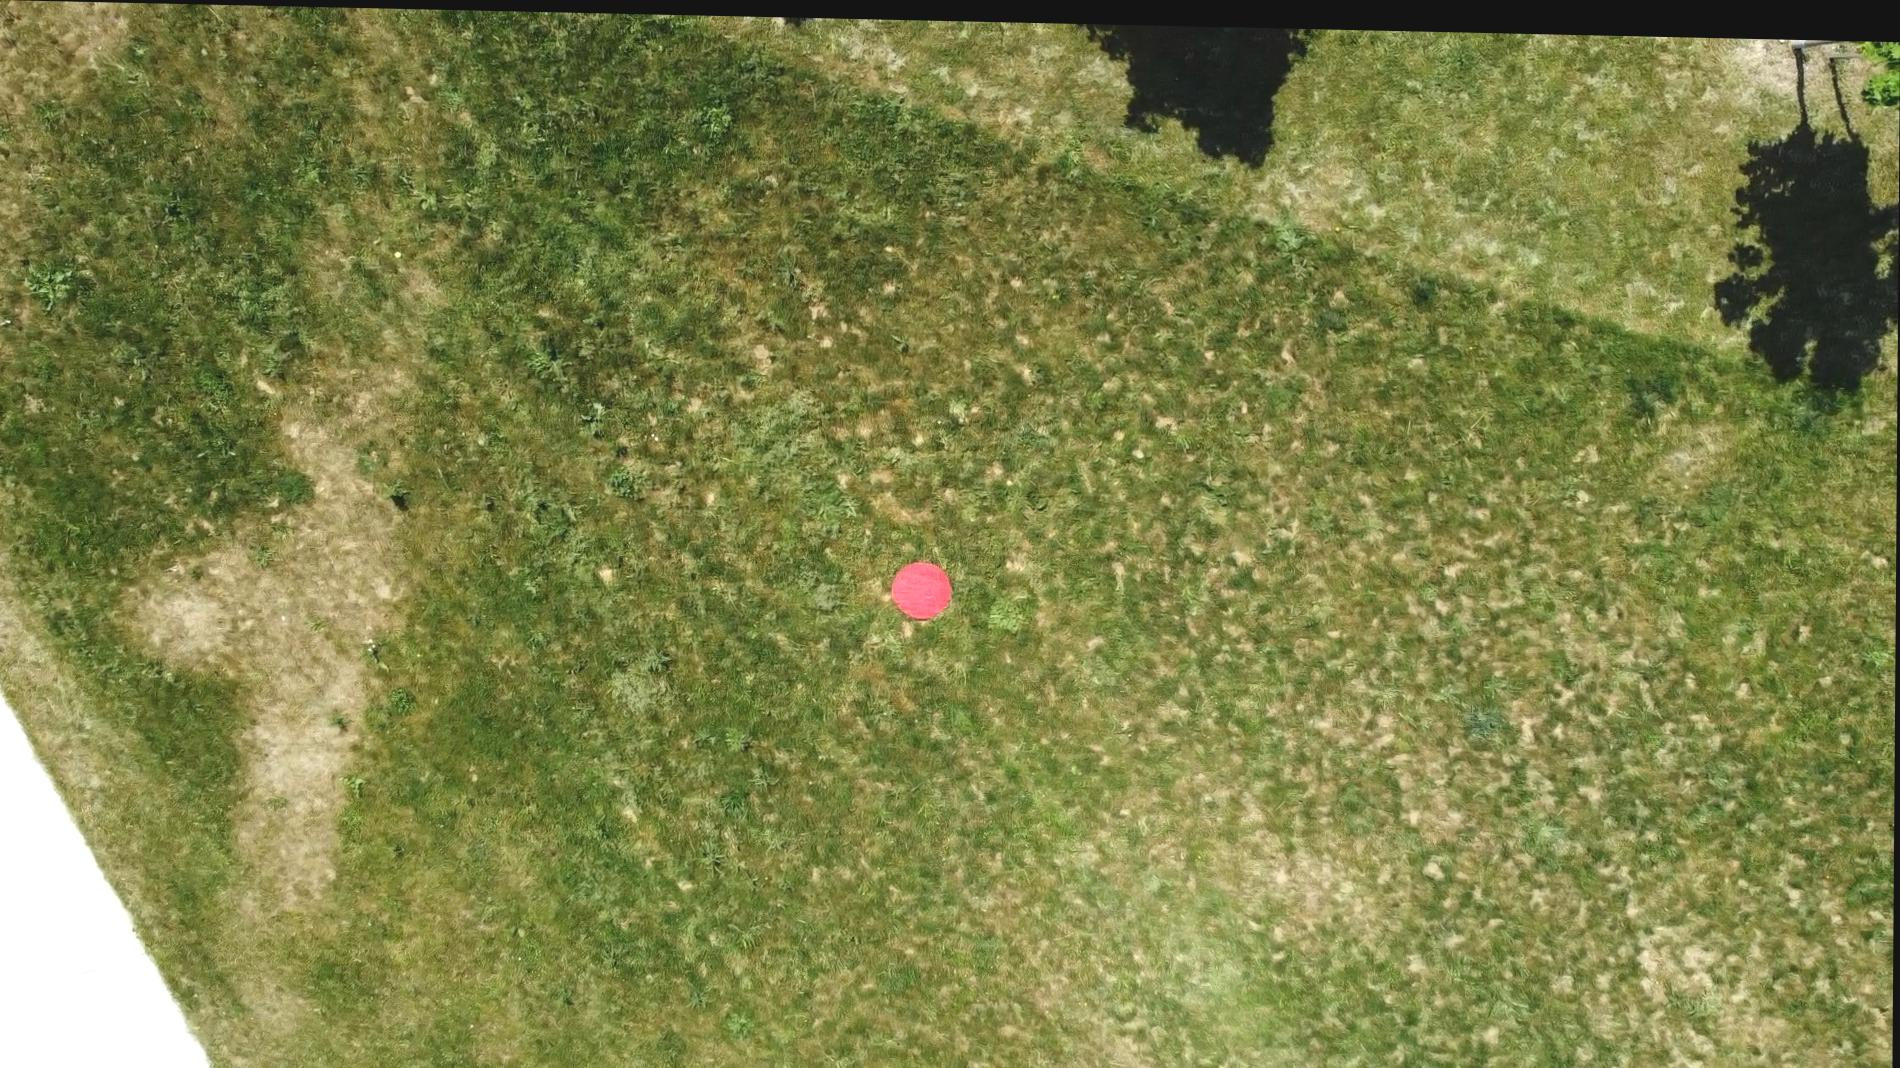Red: (890, 554, 957, 619)
